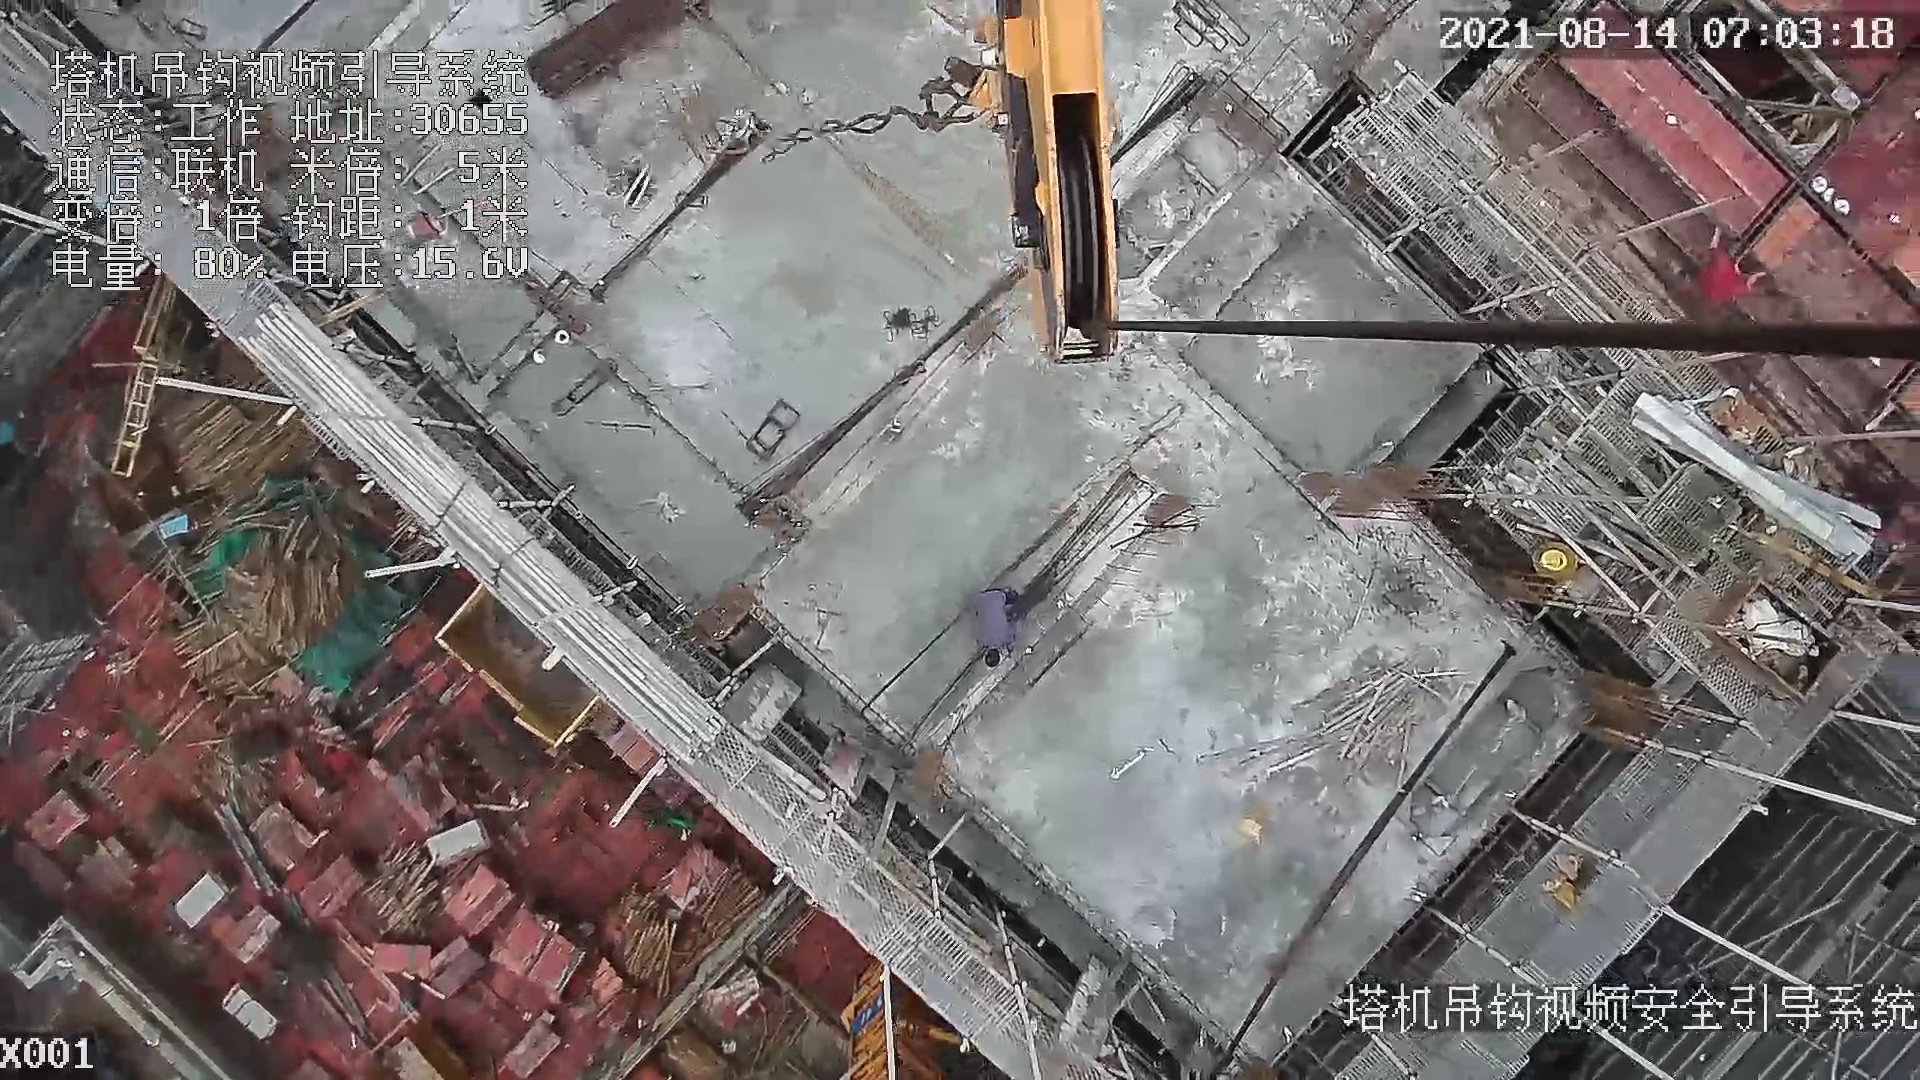hook: (932, 1, 1124, 374)
person: (969, 586, 1018, 672)
